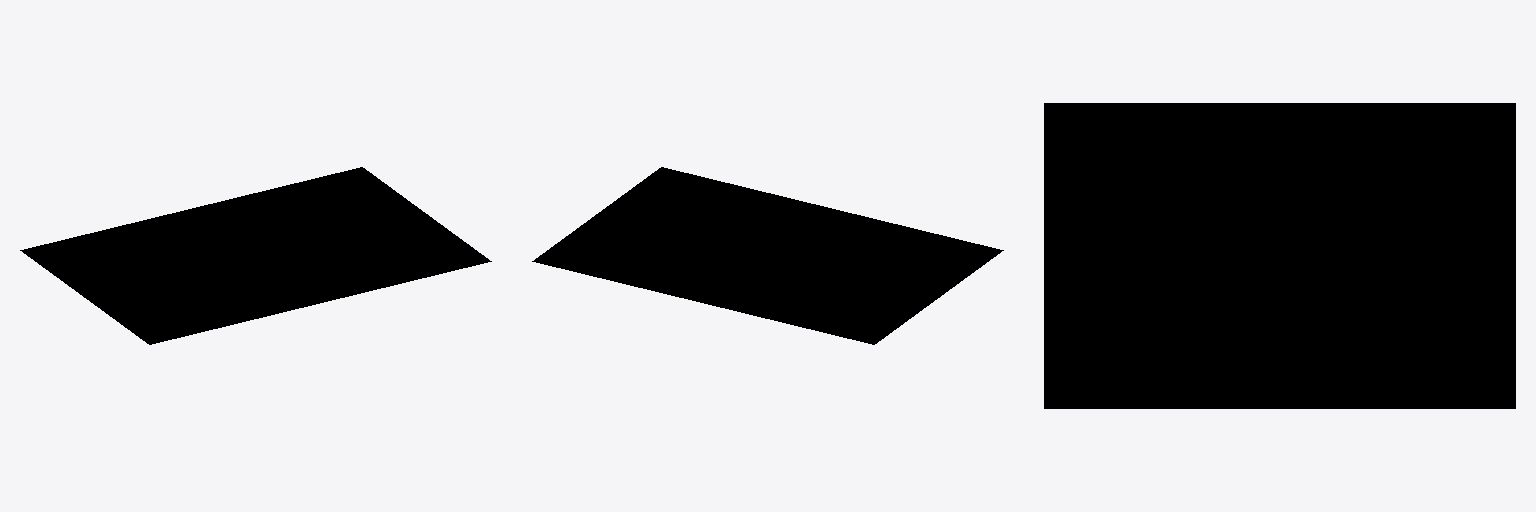
The robot description file, URDF, robot "room73b2-73b2-ground":
<?xml version="1.0"?>
<robot name="room73b2-73b2-ground"
       xmlns:xi="http://www.w3.org/2001/XInclude"
       xmlns:gazebo="http://playerstage.sourceforge.net/gazebo/xmlschema/#gz"
       xmlns:model="http://playerstage.sourceforge.net/gazebo/xmlschema/#model"
       xmlns:sensor="http://playerstage.sourceforge.net/gazebo/xmlschema/#sensor"
       xmlns:body="http://playerstage.sourceforge.net/gazebo/xmlschema/#body"
       xmlns:geom="http://playerstage.sourceforge.net/gazebo/xmlschema/#geom"
       xmlns:joint="http://playerstage.sourceforge.net/gazebo/xmlschema/#joint"
       xmlns:interface="http://playerstage.sourceforge.net/gazebo/xmlschema/#interface"
       xmlns:rendering="http://playerstage.sourceforge.net/gazebo/xmlschema/#rendering"
       xmlns:renderable="http://playerstage.sourceforge.net/gazebo/xmlschema/#renderable"
       xmlns:controller="http://playerstage.sourceforge.net/gazebo/xmlschema/#controller"
       xmlns:physics="http://playerstage.sourceforge.net/gazebo/xmlschema/#physics">
  <gazebo>
    <static>false</static>
  </gazebo>
  <link name="nil_link">
    <visual>
      <origin xyz="0 0 0" rpy="0 -0 0"/>
      <geometry>
        <mesh filename="model://room73b2-73b2-ground/meshes/nil_link_mesh.dae" scale="1 1 1" />
      </geometry>
    </visual>
    <collision>
      <origin xyz="0 0 0" rpy="0 -0 0"/>
      <geometry>
        <mesh filename="model://room73b2-73b2-ground/meshes/nil_link_mesh.dae" scale="1 1 1" />
      </geometry>
    </collision>
    <inertial>
      <mass value="0.001" />
      <origin xyz="0 0 0" rpy="0 -0 0"/>
      <inertia ixx="1e-09" ixy="0" ixz="0" iyy="1e-09" iyz="0" izz="1e-09"/>
    </inertial>
  </link>
  <gazebo reference="nil_link">
    <mu1>0.9</mu1>
    <mu2>0.9</mu2>
  </gazebo>
</robot>

--- Facts derived from the render (not from the file) ---
Views: 3 orthographic renders of the robot side by side, from view 1: azimuth 30°, elevation 25°; view 2: azimuth 150°, elevation 25°; view 3: azimuth 270°, elevation 25°.
Robot: room73b2-73b2-ground — 1 links, 0 joints (none); root link nil_link; default pose: every joint at zero.
Visible links, largest first — view 1: nil_link; view 2: nil_link; view 3: nil_link.
Link boxes in pixels (bbox=[...]): nil_link: bbox=[20, 167, 491, 344]; nil_link: bbox=[532, 167, 1003, 344]; nil_link: bbox=[1044, 103, 1515, 408].
Bounding box of the posed robot: 11.91 × 7.79 × 0.01 m (x, y, z).
Meshes: 1 distinct files referenced, 1 mesh visuals loaded (1 Collada DAE).
